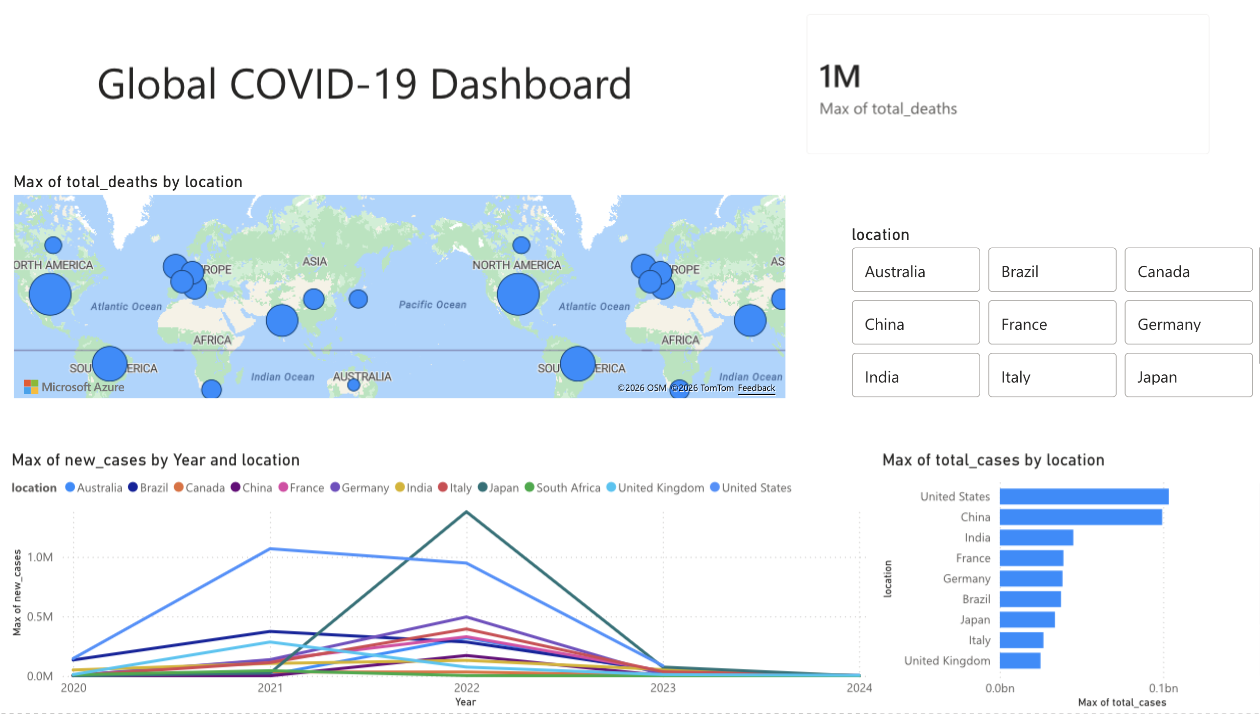

What the dashboard file says about the page in this screenshot:
{"tool":"powerbi","page":{"name":"Page 1","canvas":[1280,720],"ordinal":0},"visuals":[{"type":"textbox","box":[11.1,0,644.4,177.8],"z":0},{"type":"azureMap","fields":{"Category":["covid_data.location"],"Size":["Max(covid_data.total_deaths)"]},"box":[11.8,177,784.5,230],"z":1},{"type":"lineChart","fields":{"Category":["covid_data.date.Variation.Date Hierarchy.Year","covid_data.date.Variation.Date Hierarchy.Quarter","covid_data.date.Variation.Date Hierarchy.Month","covid_data.date.Variation.Date Hierarchy.Day"],"Series":["covid_data.location"],"Y":["Max(covid_data.new_cases)"]},"box":[9.3,457.8,873.6,261.6],"z":2},{"type":"cardVisual","fields":{"Data":["Max(covid_data.total_deaths)"]},"box":[796.3,0,439.4,177],"z":3},{"type":"advancedSlicerVisual","fields":{"Values":["covid_data.location"]},"box":[852.4,230,427.6,177],"z":4},{"type":"clusteredBarChart","fields":{"Category":["covid_data.location"],"Y":["Max(covid_data.total_cases)"]},"box":[883,458,397,262],"z":5},{"type":"textbox","box":[100.3,100.3,613.5,76.7],"z":7}]}

Visuals, with their boxes in screenshot pixels (x1, y1, x2, y2), scaled from the page's 1280x720 canvas onto the 1260x714 screenshot:
textbox: 11:0:645:176
azureMap - covid_data.location x Max(covid_data.total_deaths): 12:176:784:404
lineChart - covid_data.date.Variation.Date Hierarchy.Year x covid_data.date.Variation.Date Hierarchy.Quarter: 9:454:869:713
cardVisual - Max(covid_data.total_deaths): 784:0:1216:176
advancedSlicerVisual - covid_data.location: 839:228:1259:404
clusteredBarChart - covid_data.location x Max(covid_data.total_cases): 869:454:1259:713
textbox: 99:99:703:176
